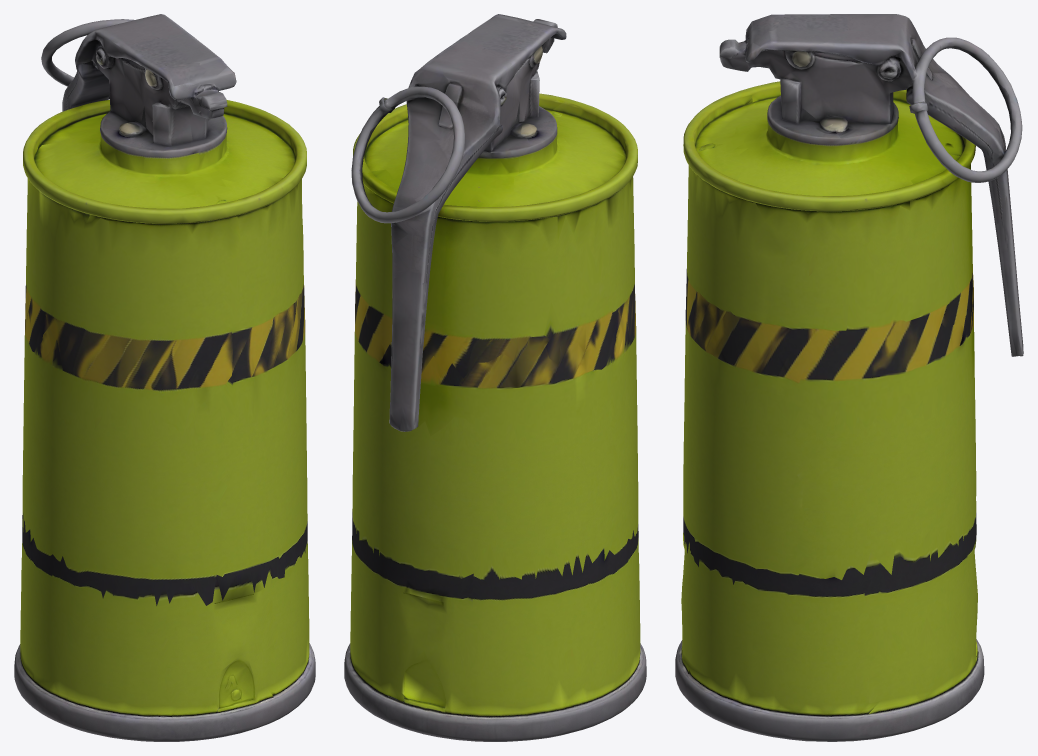
File: smoke_granade.glb
The picture shows the model from 3 angles, left to right: view 1: azimuth 30°, elevation 25°; view 2: azimuth 150°, elevation 25°; view 3: azimuth 270°, elevation 25°; orthographic projection. The views are drawn at different scales.
Visible parts, largest first — view 1: smoke_granade; view 2: smoke_granade; view 3: smoke_granade.
Boxes of the visible parts, x1=… form: smoke_granade: x1=14, y1=14, x2=315, y2=741; smoke_granade: x1=344, y1=14, x2=646, y2=741; smoke_granade: x1=675, y1=14, x2=1023, y2=741.
Bounding box in the file's own units: 0.0643 × 0.15 × 0.0725.
1 material, 1 textured.
